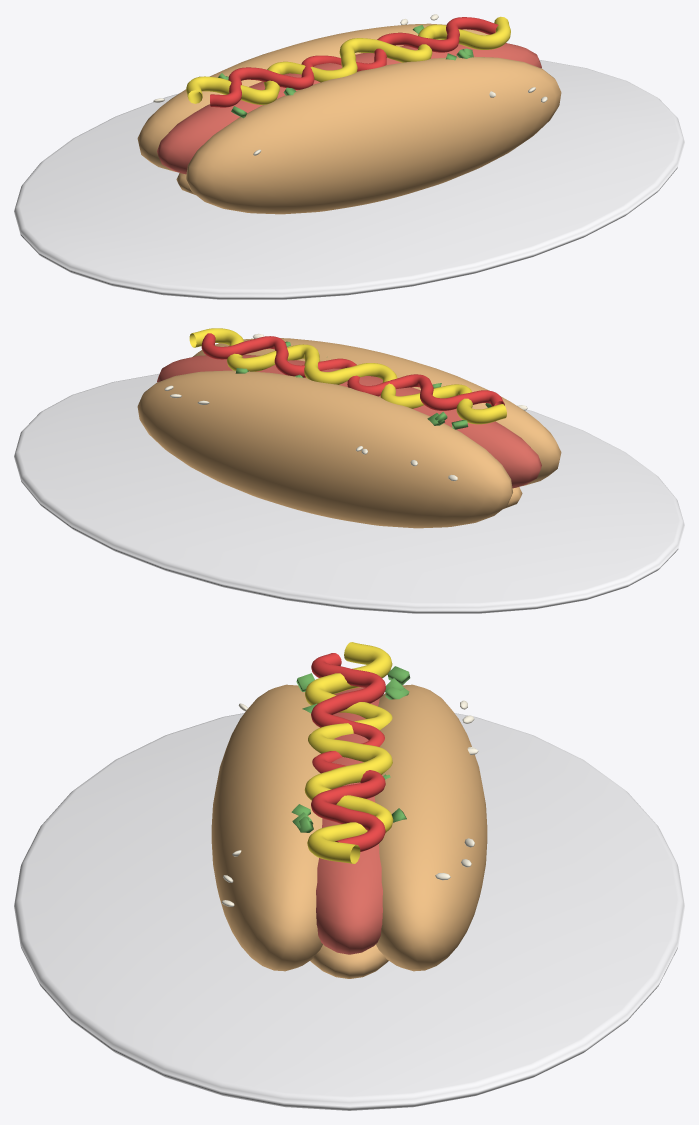
The model's file is hotdog_complete.glb.
3 renders of one model, top to bottom at view 1: azimuth 30°, elevation 25°; view 2: azimuth 150°, elevation 25°; view 3: azimuth 270°, elevation 25°, orthographic. The views are drawn at different scales.
Visible parts, largest first — view 1: Plate, Bun_Left, Mustard, Bun_Right, Sausage, Ketchup; view 2: Plate, Bun_Right, Mustard, Bun_Left, Sausage, Ketchup; view 3: Plate, Bun_Right, Bun_Left, Mustard, Sausage, Ketchup, Bun_Base.
Boxes of the visible parts, x1,y1,x2,y2 form: Plate: (14, 59, 684, 299); Bun_Left: (186, 56, 561, 214); Mustard: (186, 16, 510, 104); Bun_Right: (137, 23, 488, 172); Sausage: (157, 43, 541, 174); Ketchup: (210, 17, 498, 107); Plate: (14, 373, 684, 613); Bun_Right: (137, 370, 512, 528); Mustard: (189, 328, 506, 424); Bun_Left: (193, 338, 561, 486); Sausage: (157, 354, 541, 488); Ketchup: (201, 333, 504, 410); Plate: (14, 713, 684, 1110); Bun_Right: (374, 684, 487, 971); Bun_Left: (211, 684, 322, 971); Mustard: (304, 642, 393, 863); Sausage: (316, 687, 382, 954); Ketchup: (311, 653, 385, 851); Bun_Base: (310, 944, 388, 978).
Bounding box in the file's own units: 6.24 × 1.25 × 4.42.
